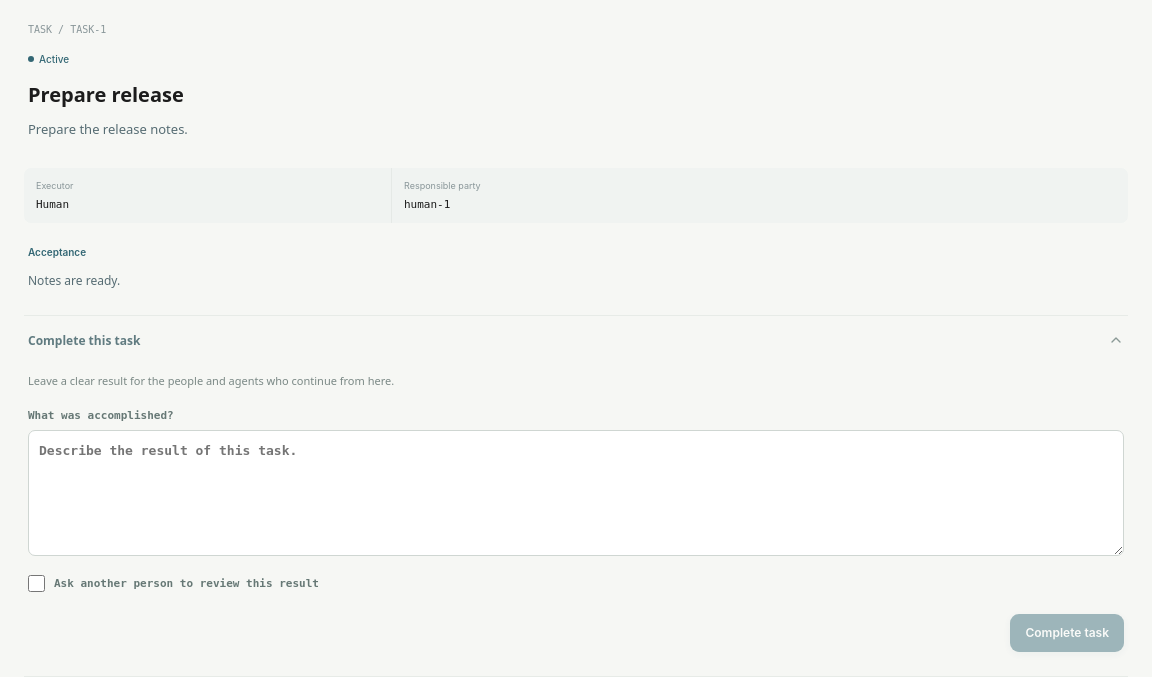
Test: Task detail operations › disables the completion action while its mutation is pending
This screenshot has width=1152, height=677.
Step 1. Type "Done" into the text box labelled "What was accomplished?" → (576, 493), box [28,430,1124,556]
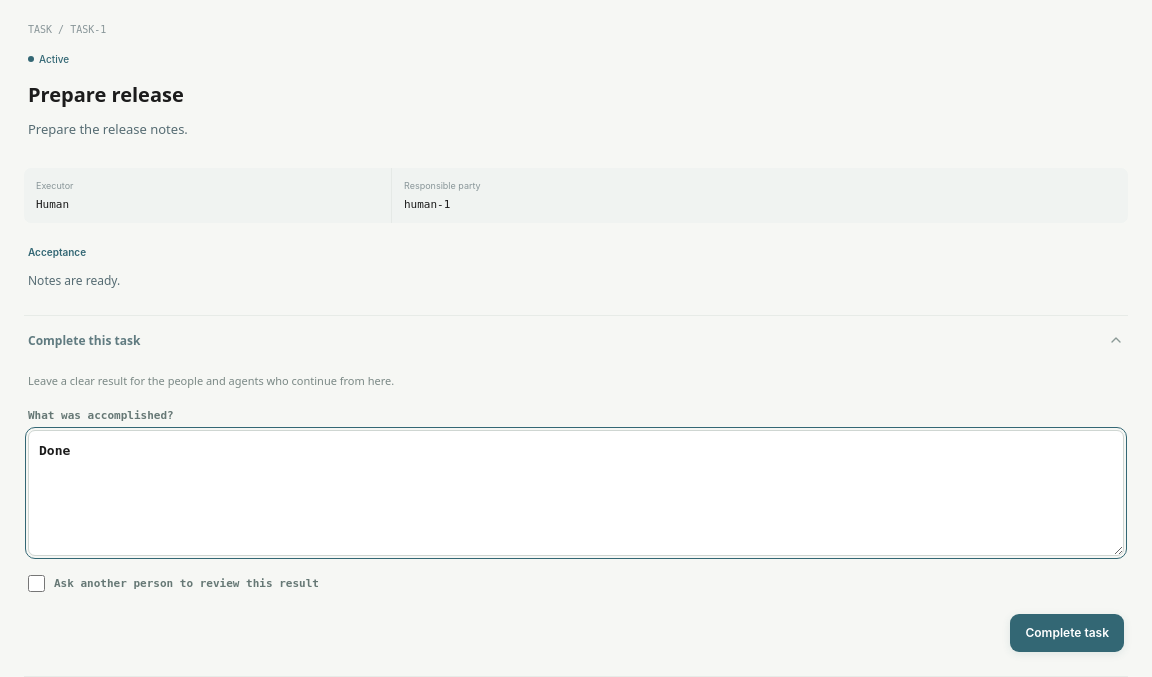
Step 2. Click the button "Complete task" → (1067, 633), box [1010,614,1124,652]
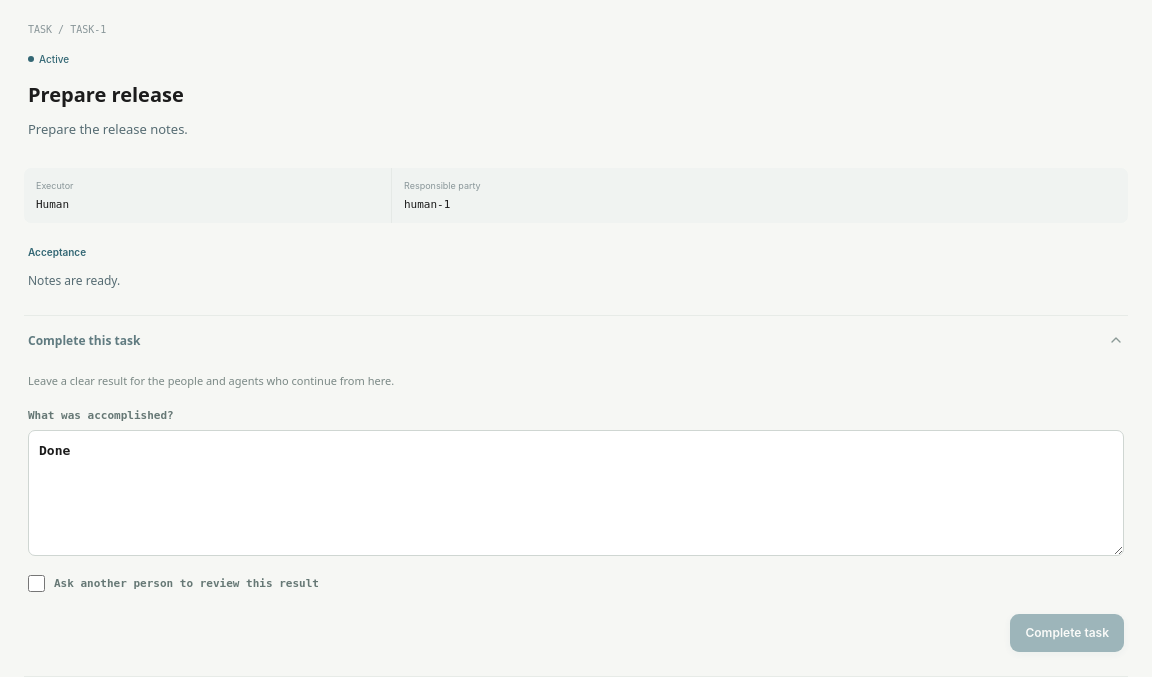
Now the button "Complete task" is disabled, box [1010,614,1124,652]
